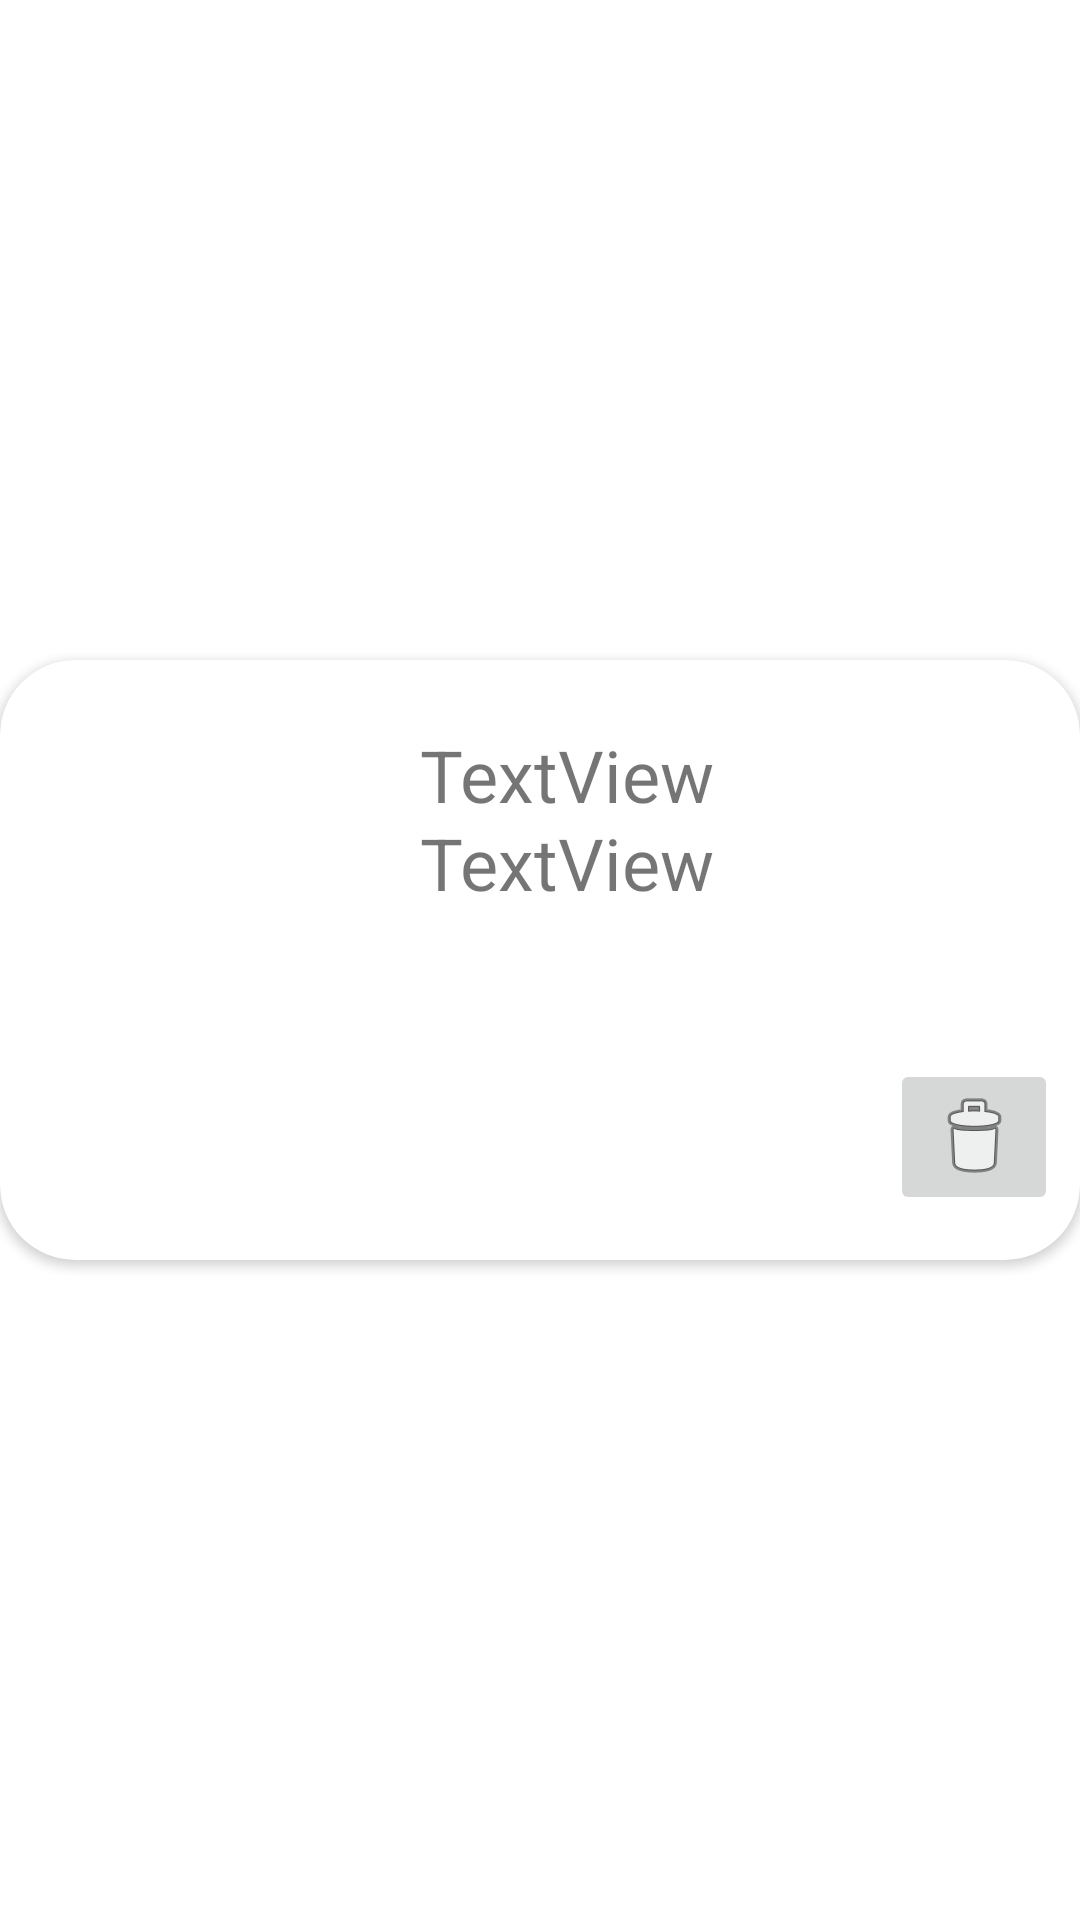

Where to tap for icons on this 1080 x 1920 app screen, as [x,y]:
delete: [974,1137]
